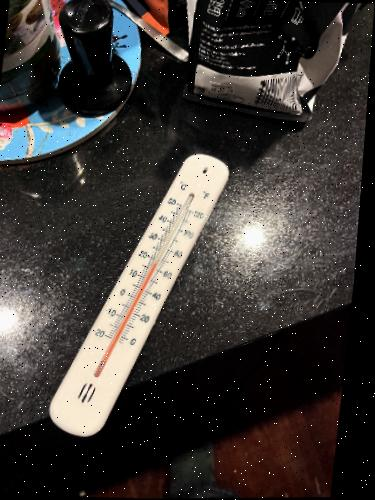thermo: (40, 142, 243, 447)
